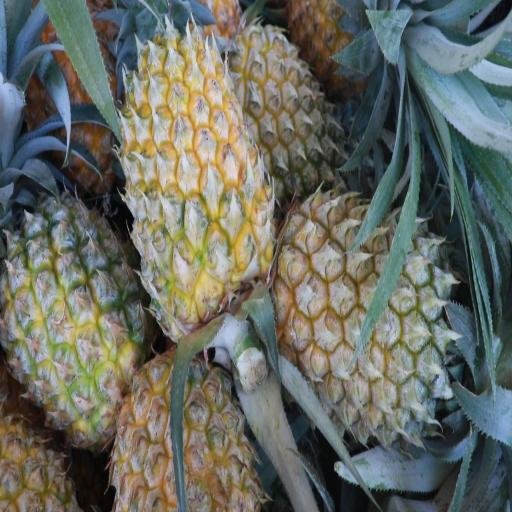------------------------------: (111, 339, 250, 512)
Pineapple - v8 v1: (124, 24, 272, 320), (2, 188, 139, 432)
